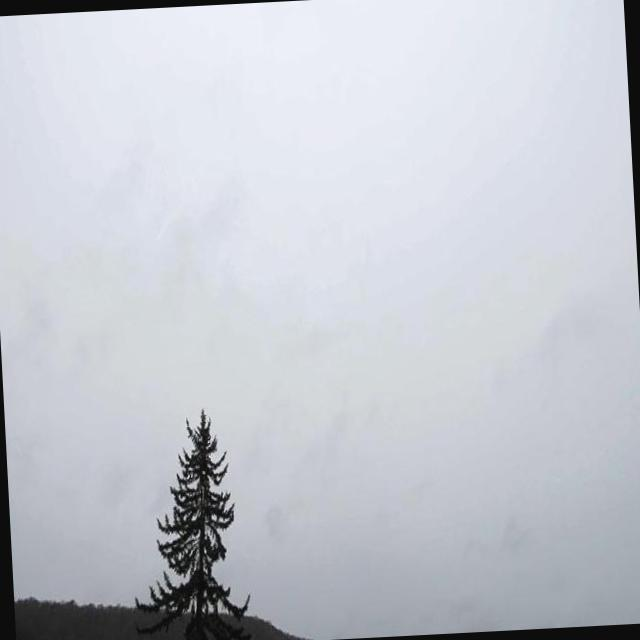nimbostratus: (233, 0, 640, 608)
